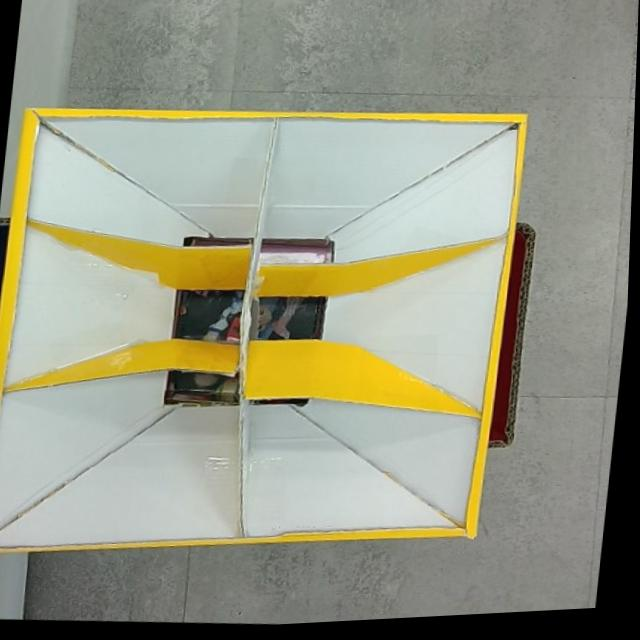box: (0, 80, 552, 590)
